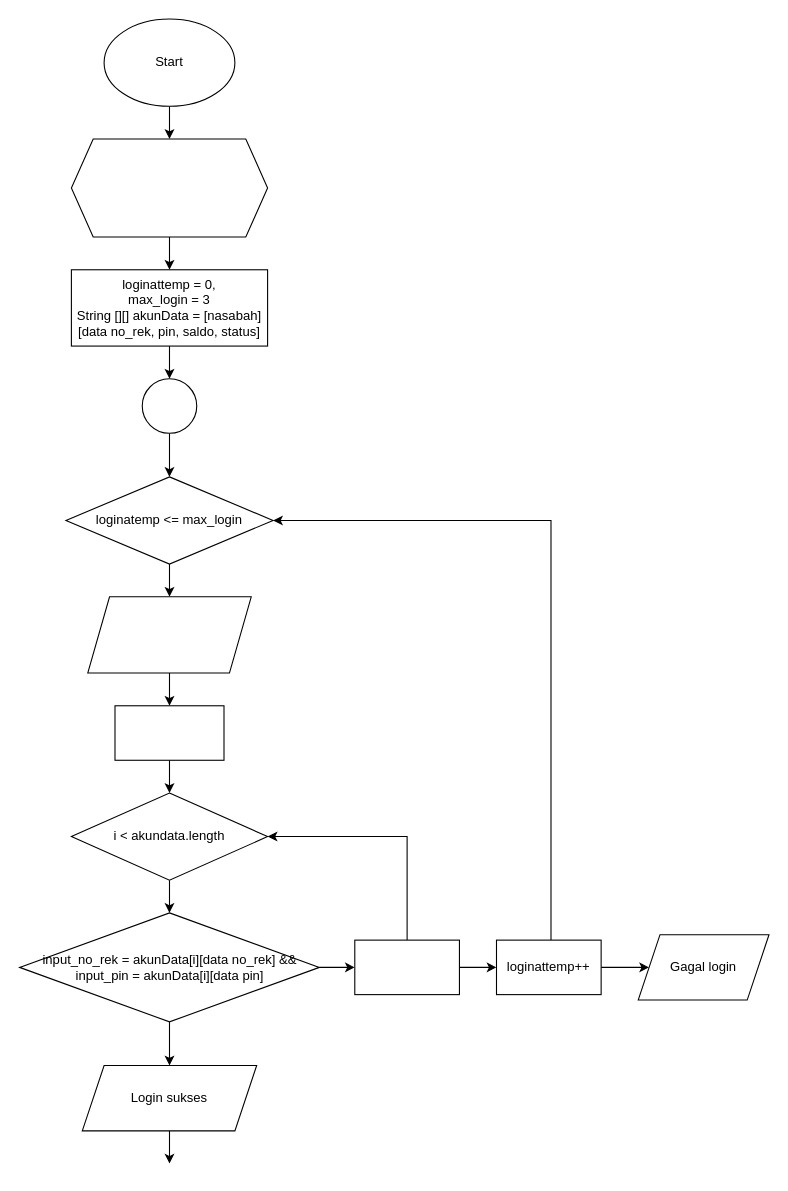
This 788x1191 diagram has some shape labels left out. The box of each missing label's shape, as (x1, y1, x2, y2) in pixels:
i = 0: (114, 705, 224, 760)
i++: (354, 939, 459, 995)
input_no_rek, input_pin: (87, 596, 251, 673)
String[][] akunData, input_no_rek, input_pin int loginattemp, max_login: (70, 138, 268, 237)
